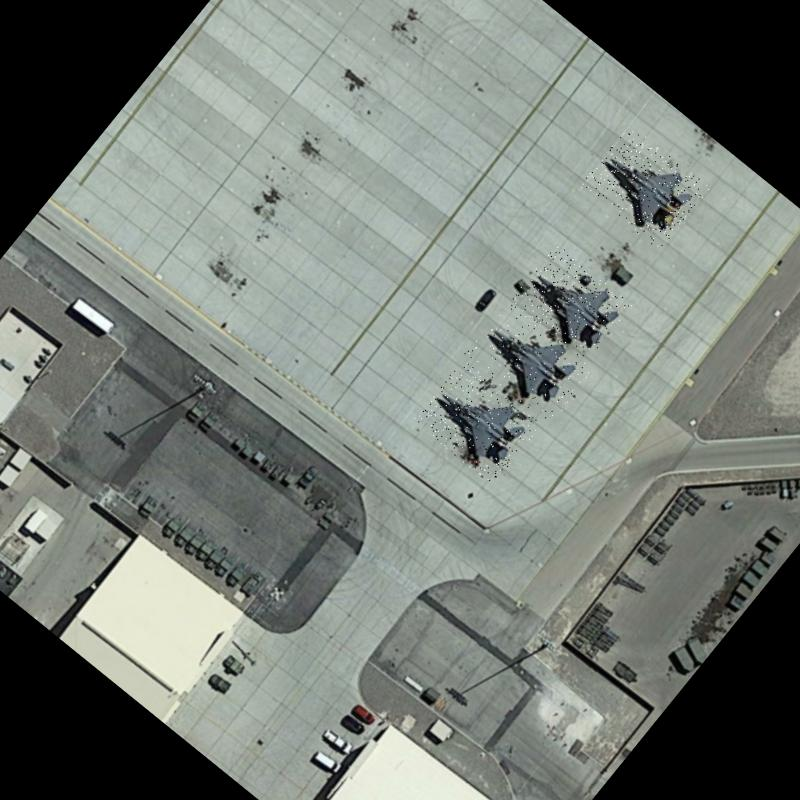A13: (578, 123, 710, 250), (411, 358, 542, 485), (462, 300, 594, 426), (509, 243, 632, 362)
